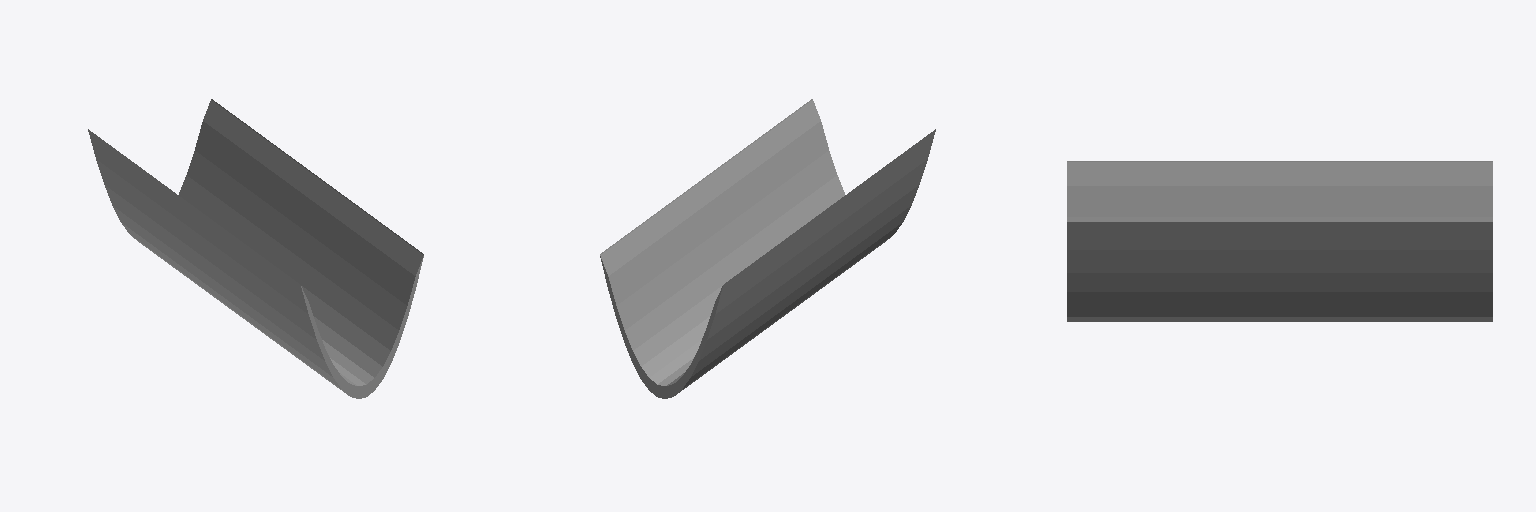
File: parabolic_cylinder_texture.obj
The picture shows the model from 3 angles: view 1: azimuth 30°, elevation 25°; view 2: azimuth 150°, elevation 25°; view 3: azimuth 270°, elevation 25°; orthographic projection.
Visible parts, largest first — view 1: z_20_Z_Function; view 2: z_20_Z_Function; view 3: z_20_Z_Function.
Part boxes in pixels (x1,y1,x2,y2): z_20_Z_Function: (88, 99, 423, 398); z_20_Z_Function: (600, 99, 935, 398); z_20_Z_Function: (1067, 161, 1492, 321).
Bounding box in the file's own units: 2.01 × 2 × 6.